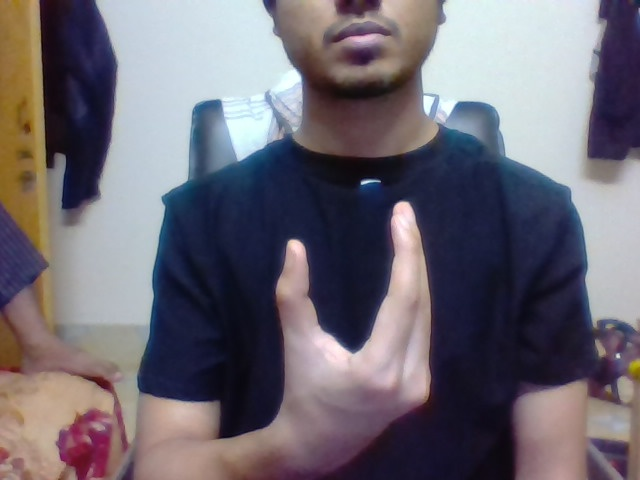U: (260, 192, 451, 376)
